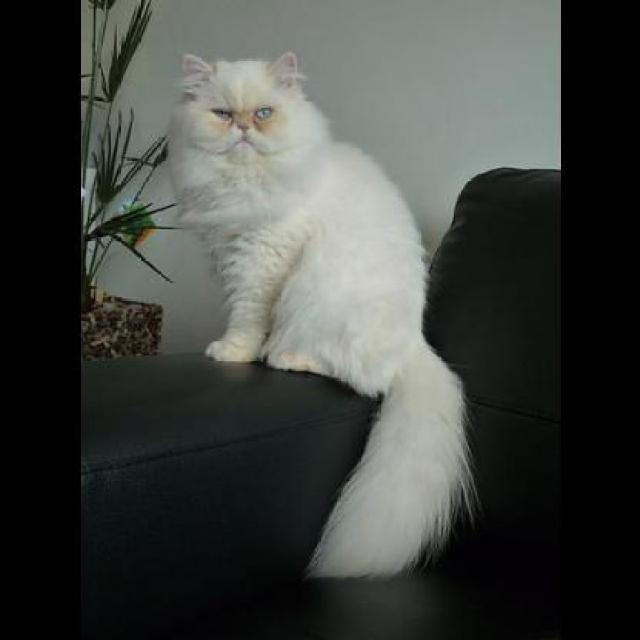unauthorized: (165, 48, 480, 580)
